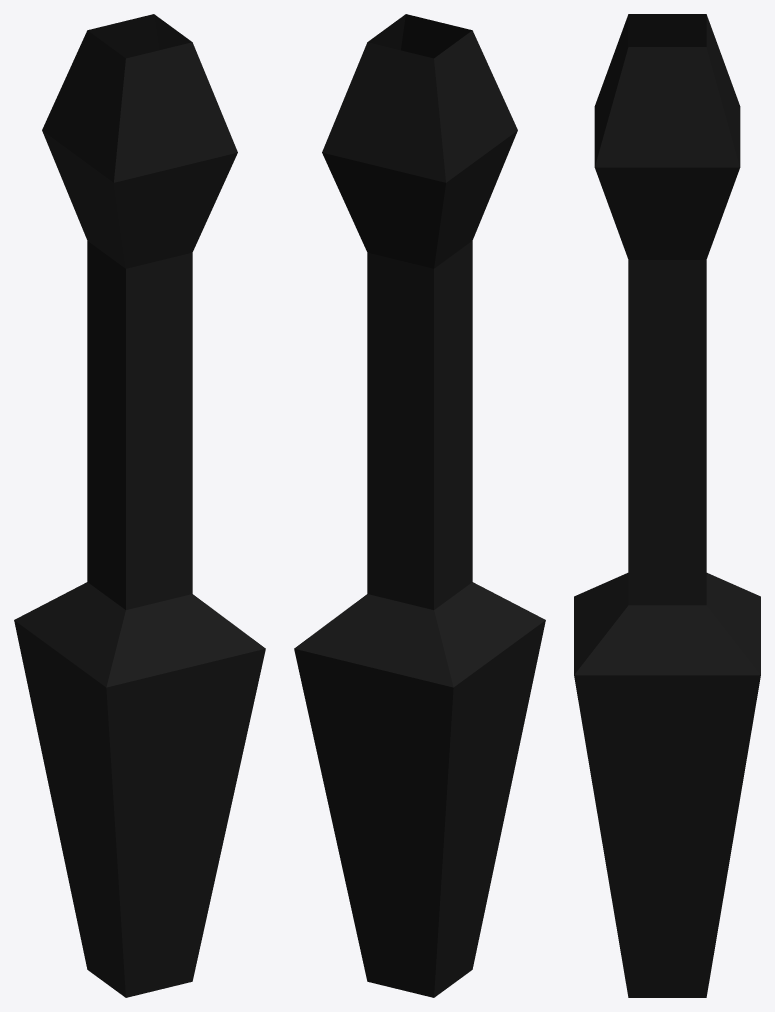
File: Itr_Table_Leg_03.FBX
The picture shows the model from 3 angles, left to right: view 1: azimuth 30°, elevation 25°; view 2: azimuth 150°, elevation 25°; view 3: azimuth 270°, elevation 25°; orthographic projection.
Visible parts, largest first — view 1: Itr_Table_Leg_03; view 2: Itr_Table_Leg_03; view 3: Itr_Table_Leg_03.
Boxes of the visible parts, <box> form: Itr_Table_Leg_03: <box>14,14,265,997</box>; Itr_Table_Leg_03: <box>294,14,545,997</box>; Itr_Table_Leg_03: <box>574,14,760,997</box>.
Size of the model in its own units: 4.88 by 27.48 by 4.9.
